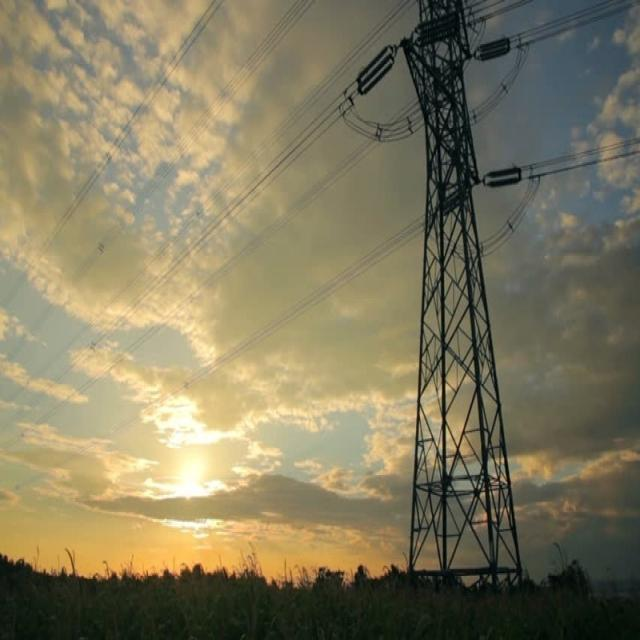non-critical vegetation: (376, 9, 529, 576)
